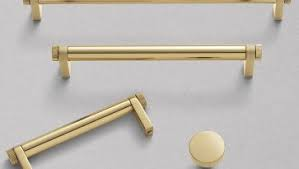handle: (48, 41, 272, 86), (3, 107, 161, 169), (21, 1, 289, 23), (183, 128, 245, 169)
